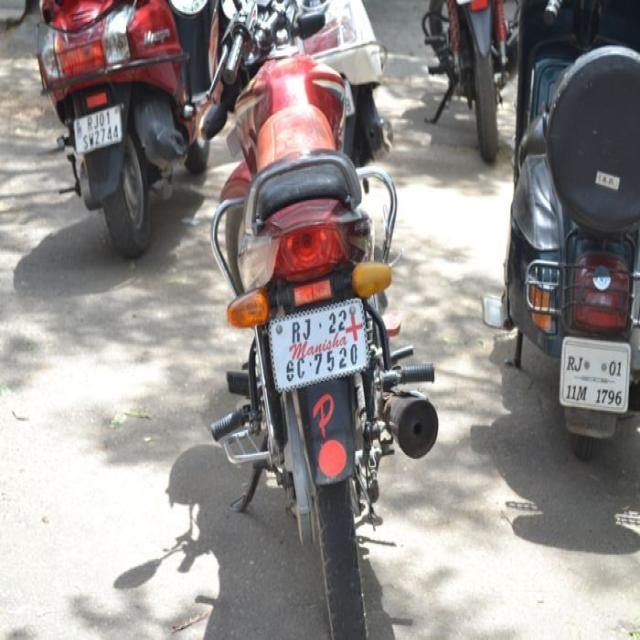license_plate: (267, 295, 369, 392), (558, 334, 631, 414), (73, 103, 124, 153)
